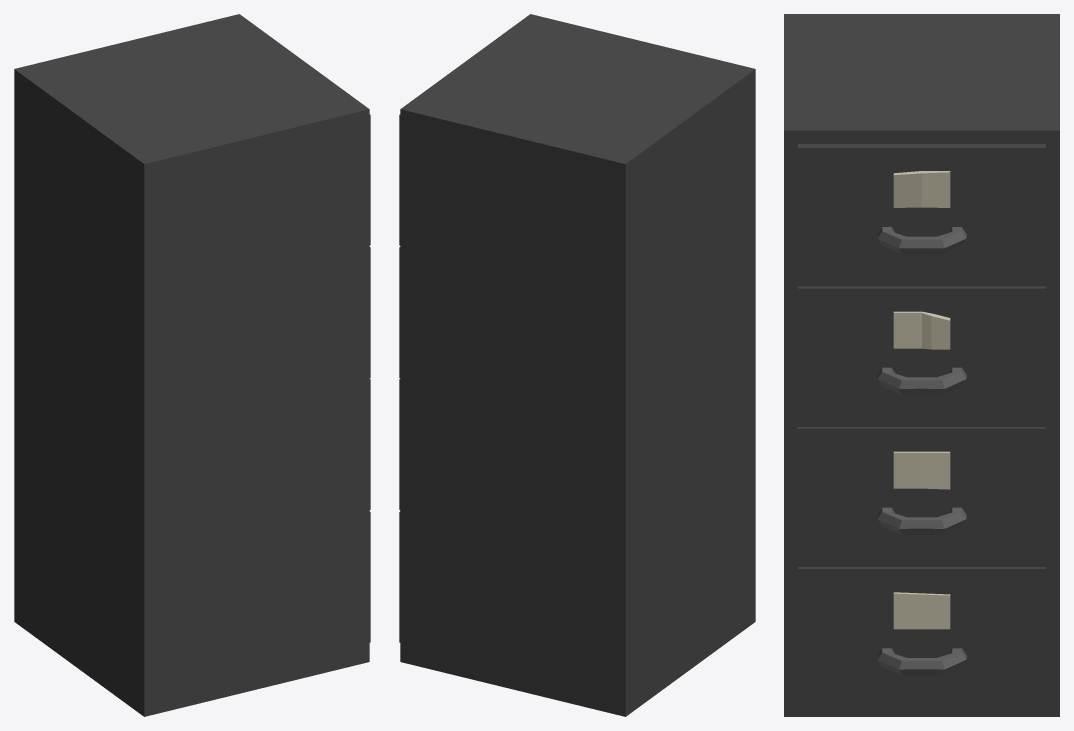
File: pp_file_cabinet.glb
3 views of the same model, side by side, from view 1: azimuth 30°, elevation 25°; view 2: azimuth 150°, elevation 25°; view 3: azimuth 270°, elevation 25° (orthographic). The views are drawn at different scales.
Visible parts, largest first — view 1: Main_; view 2: Main_; view 3: Main_, Draw.
Part boxes in pixels (box(x1,y1,x2,y2)): Main_: box(14, 14, 370, 716); Main_: box(399, 14, 755, 716); Main_: box(784, 14, 1059, 716); Draw: box(877, 171, 966, 675).
Bounding box in the file's own units: 0.7604 × 1.55 × 0.6593.
